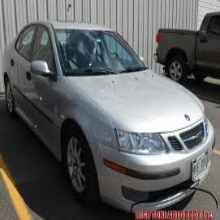no damage: (4, 20, 214, 213), (154, 11, 220, 87)
